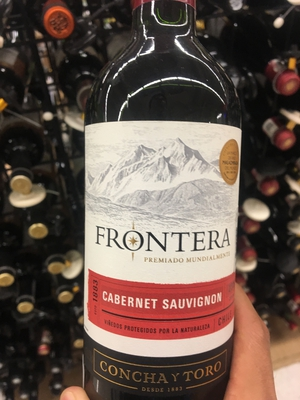frontera cabernet sauvignon: (82, 16, 239, 400)
